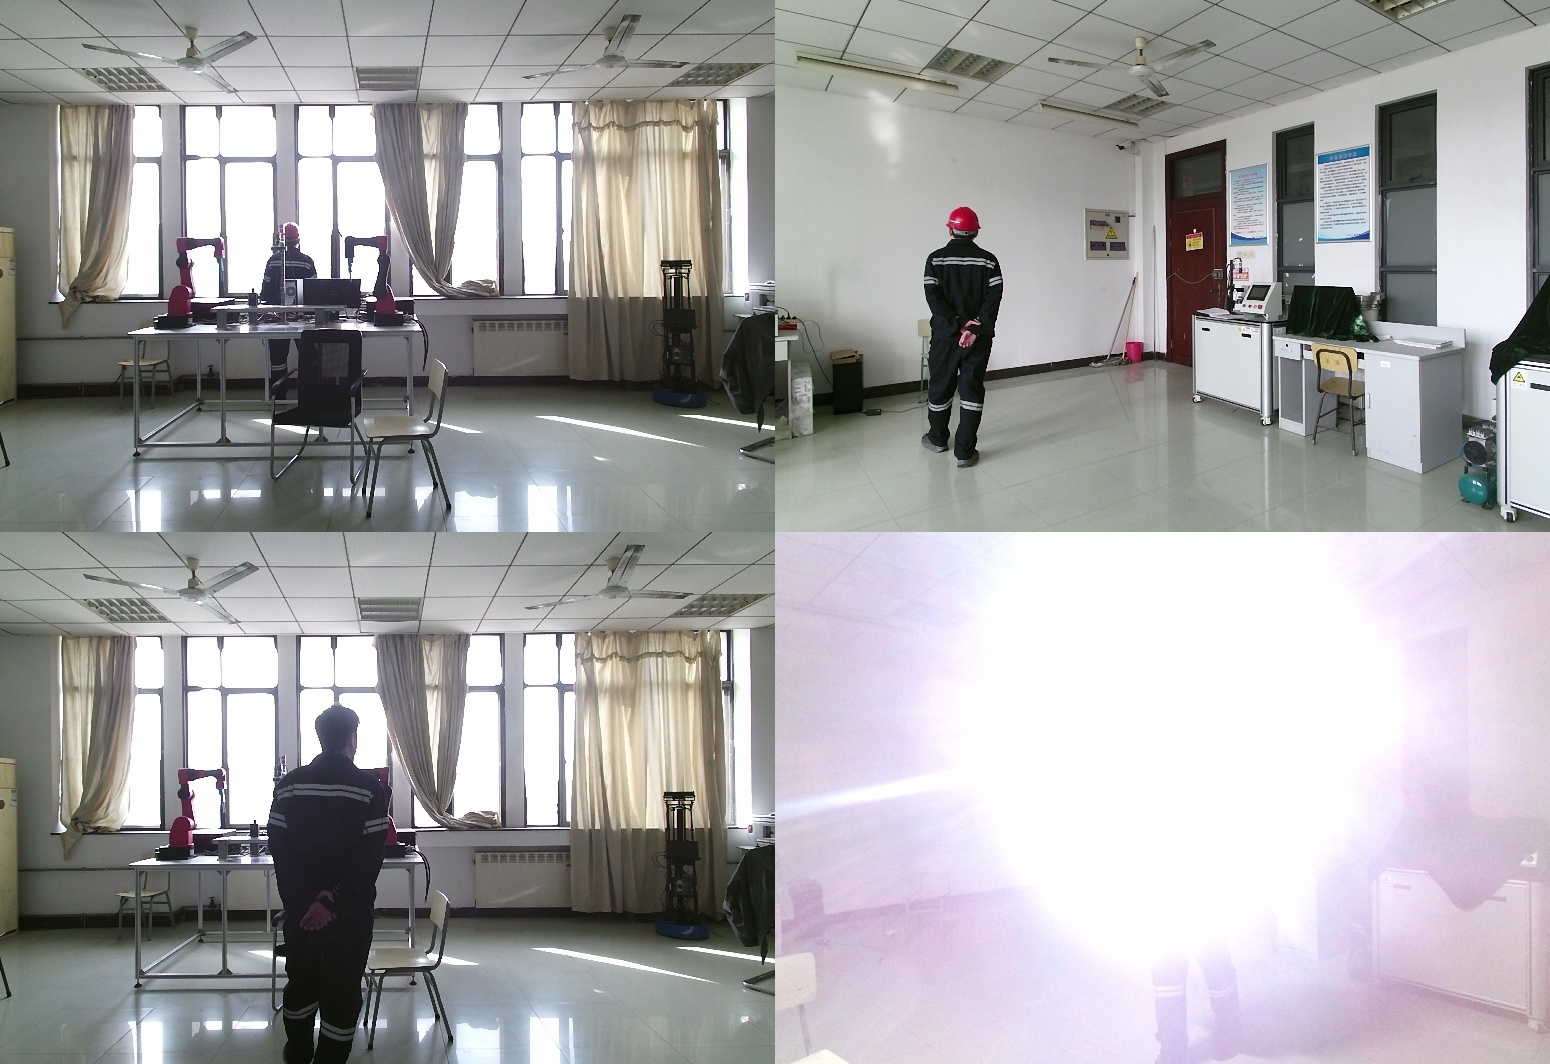person: (265, 705, 413, 1064), (1137, 712, 1257, 1064), (918, 209, 1016, 466), (262, 226, 326, 407)
